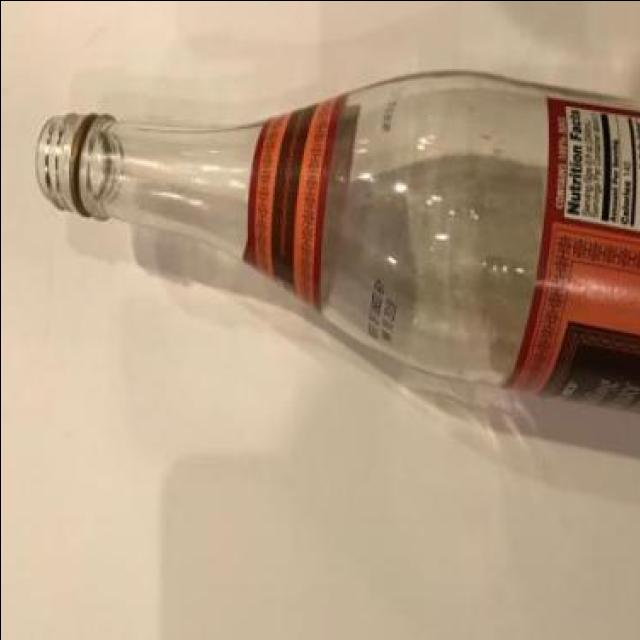kaca: (34, 68, 640, 415)
